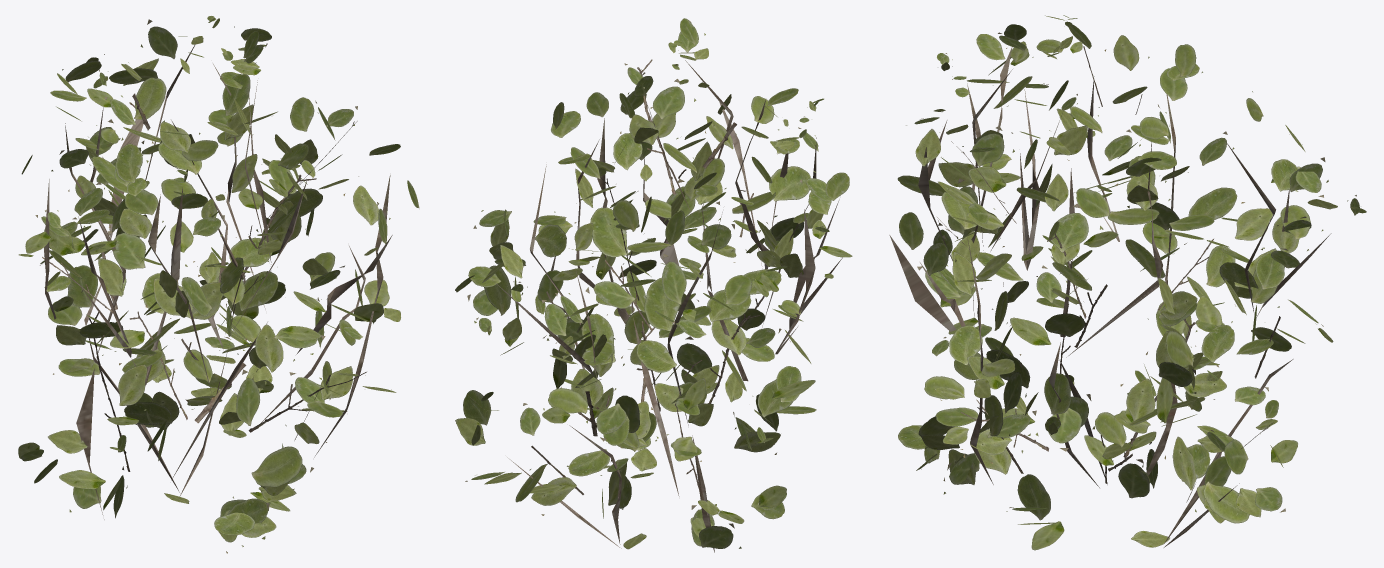
The model's file is bush_green_b.glb.
The picture shows the model from 3 angles, left to right: view 1: azimuth 30°, elevation 25°; view 2: azimuth 150°, elevation 25°; view 3: azimuth 270°, elevation 25°; orthographic projection. The views are drawn at different scales.
Visible parts, largest first — view 1: bush_green_b; view 2: bush_green_b; view 3: bush_green_b.
Boxes of the visible parts, <box> form: bush_green_b: <box>18,16,419,553</box>; bush_green_b: <box>455,18,852,552</box>; bush_green_b: <box>889,15,1366,550</box>.
Size of the model in its own units: 1.26 by 1.73 by 1.42.
Materials: 2 (2 with a texture image).
